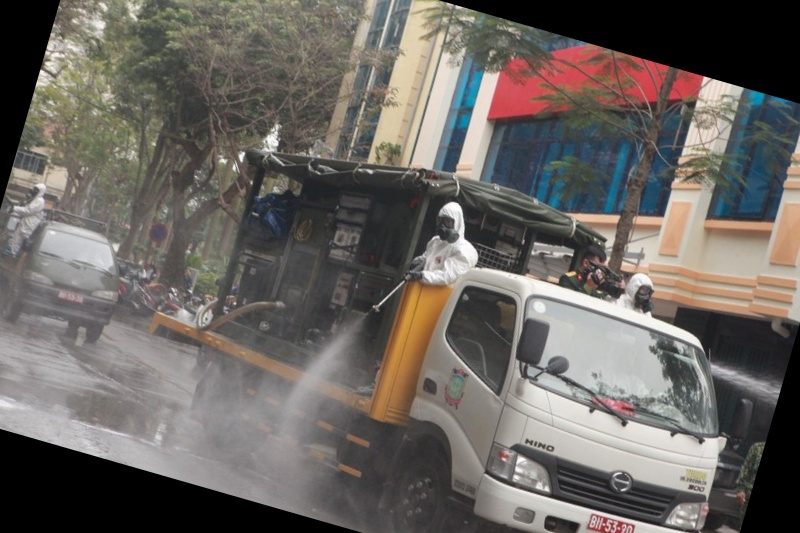plate: (586, 508, 635, 533)
